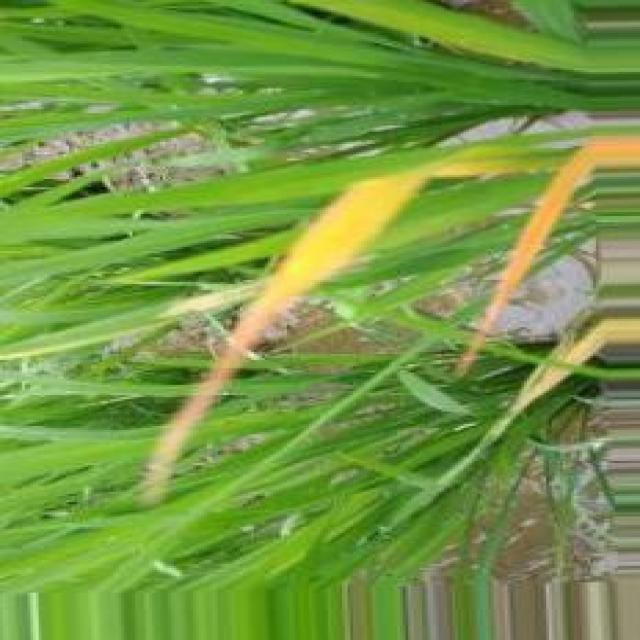Rice Tungro: (139, 171, 430, 504), (404, 317, 640, 519), (456, 147, 592, 376), (588, 136, 638, 169)
